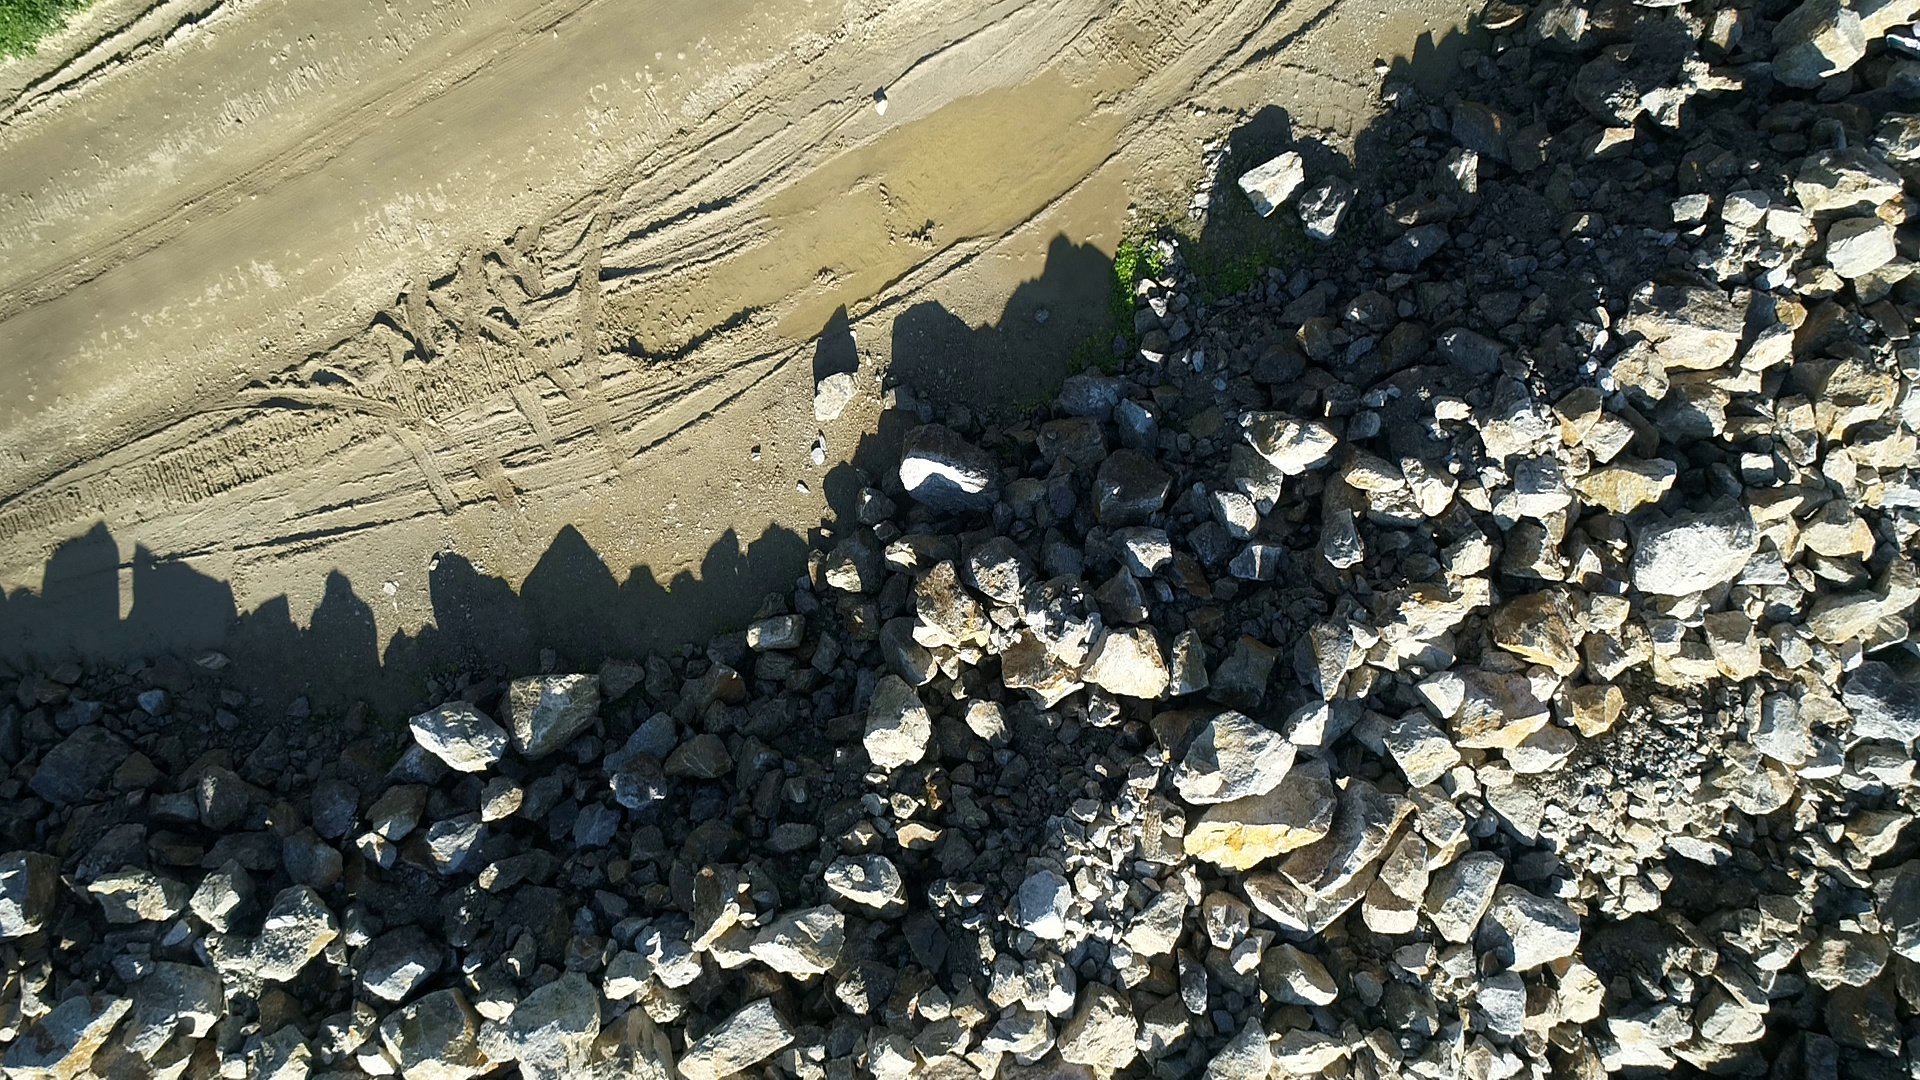not_defined: (1880, 17, 1920, 62)
